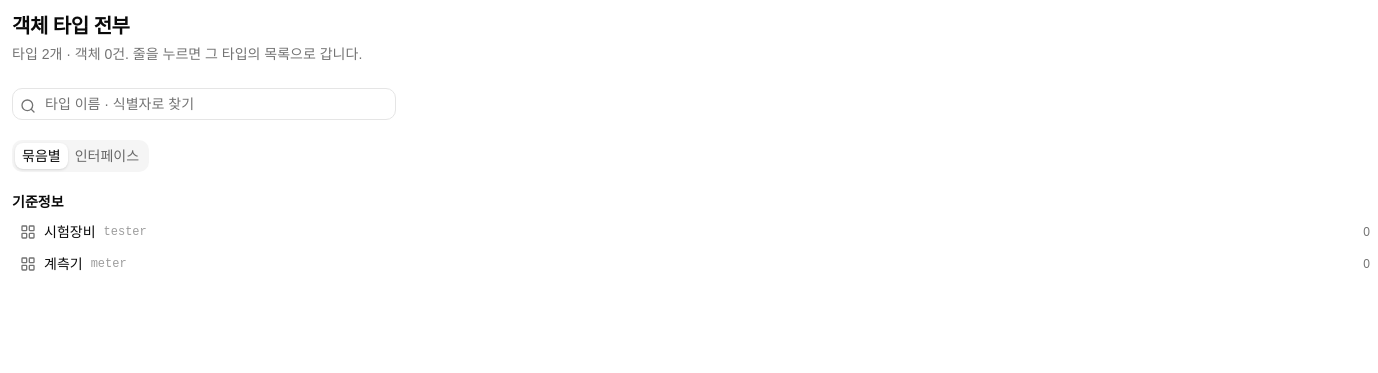
Test: 객체 타입 전부 › 인터페이스 탭은 구현 타입을 함께 보이고, 빈 것은 그 자리에서 이유를 말한다
Click the tab "인터페이스" at point(107, 156), box top-left (68, 143), bottom-right (146, 169)
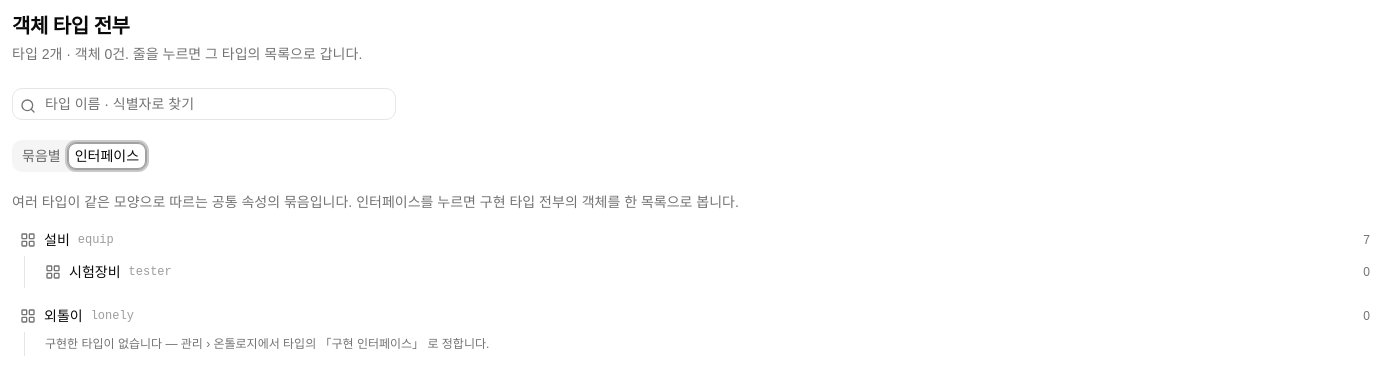
Result: the panel shows "설비" at top-left (12, 224), bottom-right (1377, 256)
Result: the panel shows "시험장비" at top-left (37, 256), bottom-right (1377, 288)
Result: the panel no longer shows "계측기" at top-left (12, 180), bottom-right (1377, 356)
